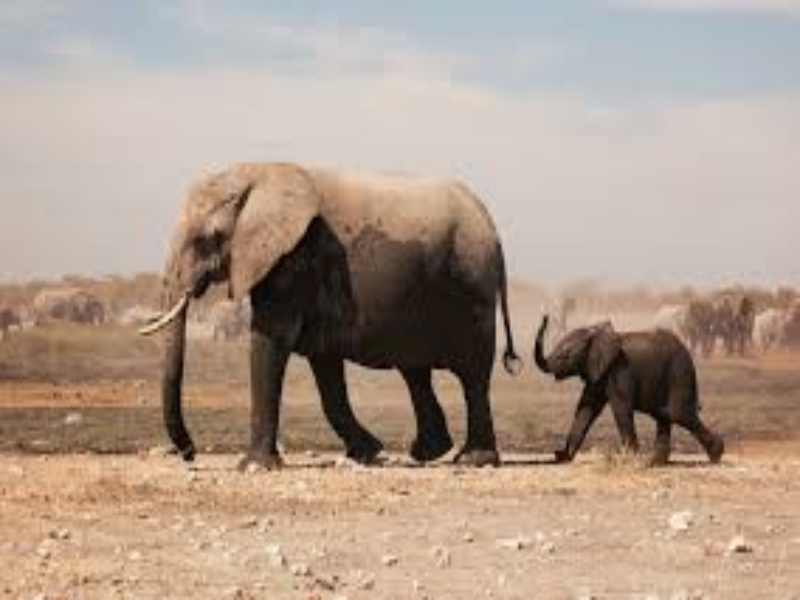elephant: (123, 137, 529, 496), (535, 292, 742, 494)
